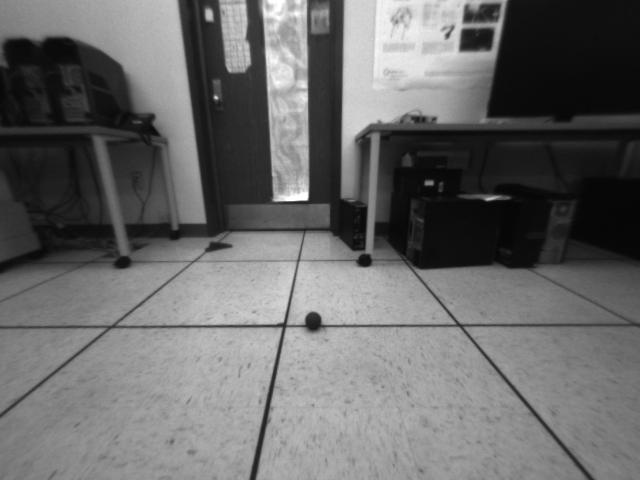dogtoy: (298, 306, 328, 333)
